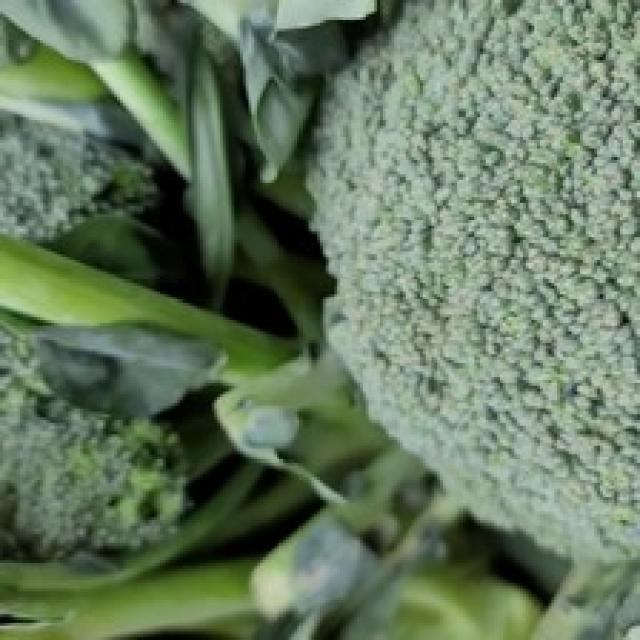broccoli: (303, 2, 640, 560)
